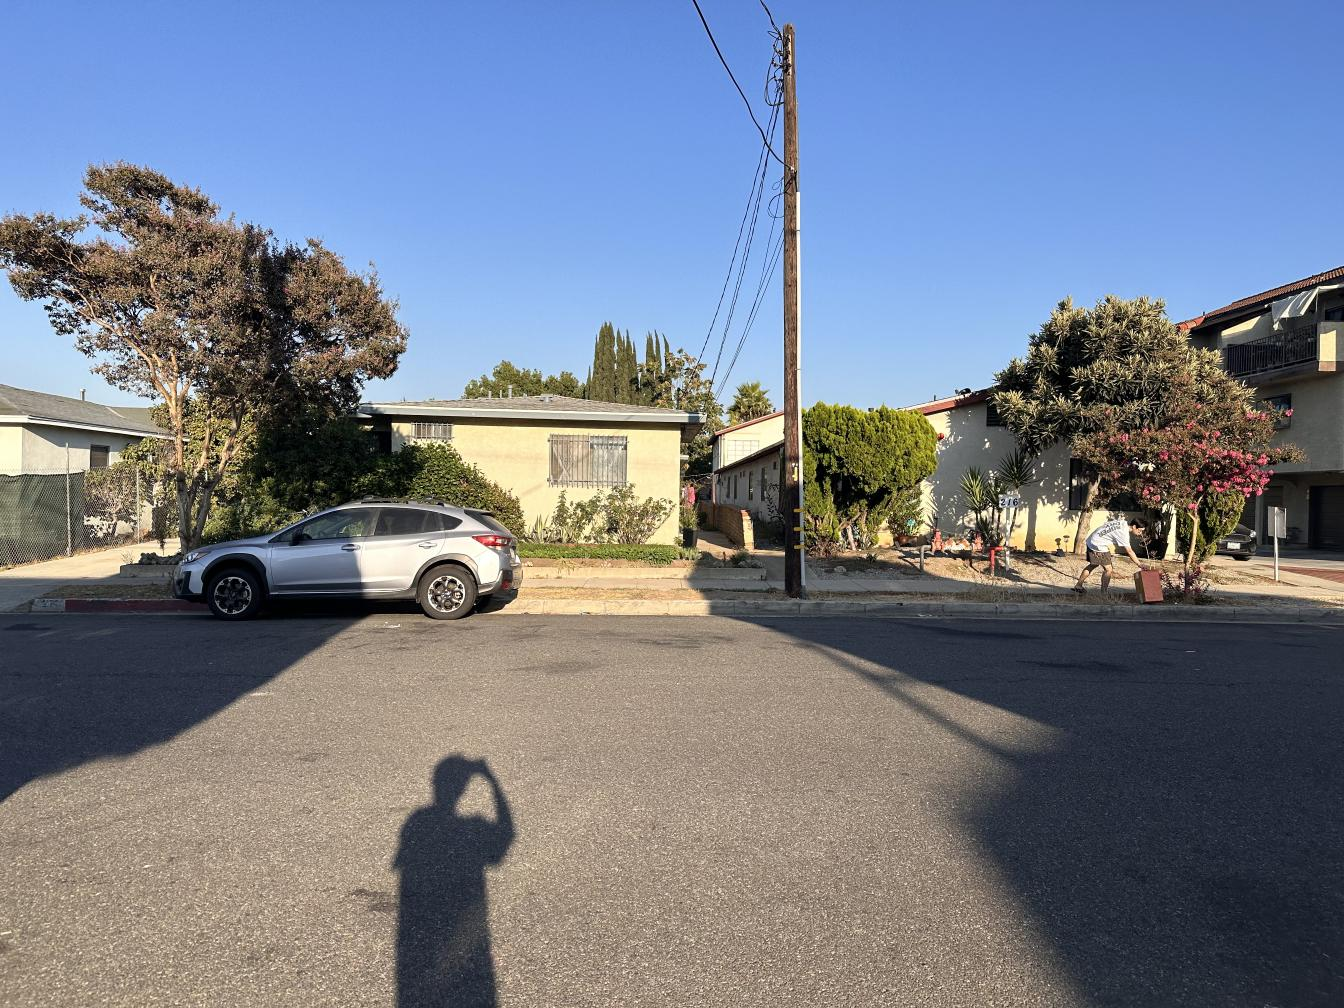curbs-laRr: (525, 594, 1126, 619), (1129, 605, 1343, 625)
orange box: (1133, 570, 1165, 602)
